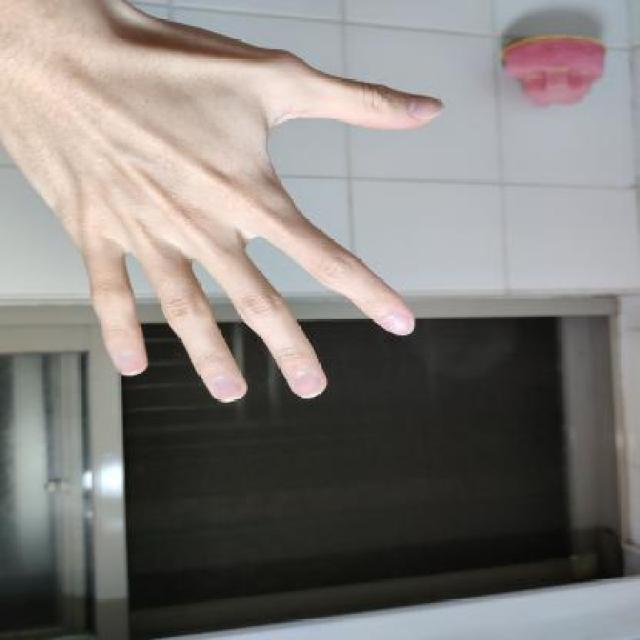bare_hand: (0, 0, 455, 417)
